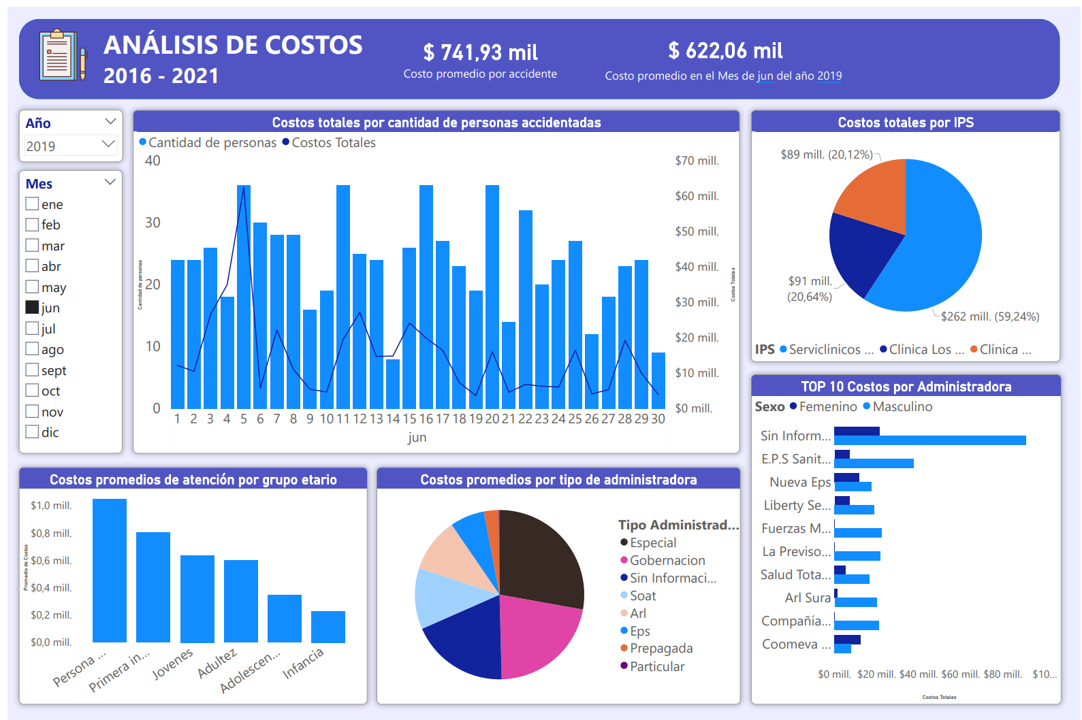

This screenshot's page, from the dashboard's own definition file:
{"tool":"powerbi","page":{"name":"Análisis de Costos","canvas":[3000,2000],"ordinal":1},"visuals":[{"type":"pieChart","title":"Costos totales por IPS","fields":{"Category":["IPS.IPS"],"Y":["Sum(Tabla Costos.Costos)"]},"box":[2080,288,864,704],"z":0},{"type":"slicer","fields":{"Values":["Fechas.Nombre_mes"]},"box":[33.3,455.6,288.9,792.6],"z":1000},{"type":"slicer","fields":{"Values":["Fechas.Año"]},"box":[33.3,286.7,290,146.7],"z":2000},{"type":"shape","box":[33.3,33.3,2910,223.3],"z":3000},{"type":"image","box":[72,48,168,168],"z":4000},{"type":"textbox","box":[264,48,1152,192],"z":5000},{"type":"clusteredBarChart","title":"TOP 10 Costos por Administradora","fields":{"Category":["Administradora.Administradora"],"Y":["Sum(Tabla Costos.Costos)"],"Series":["Tabla Costos.Sexo"]},"box":[2080,1026.7,866.7,923.3],"z":6000},{"type":"lineClusteredColumnComboChart","title":"Costos totales por cantidad de personas accidentadas","fields":{"Category":["Fechas.Nombre_mes","Fechas.Dia"],"Y":["Count(Tabla Costos.Numero)"],"Y2":["Sum(Tabla Costos.Costos)"]},"box":[352,288,1696,960],"z":7000},{"type":"card","fields":{"Values":["_Medidas.Costo promedio por accidente"]},"box":[1066.7,36.7,513.3,203.3],"z":8000},{"type":"card","fields":{"Values":["_Medidas.Costo promedio por accidente"]},"box":[1800,46.7,416.7,130],"z":9000},{"type":"textbox","box":[1666.7,163.3,715,93.3],"z":10000},{"type":"clusteredColumnChart","title":"Costos promedios de atención por grupo etario","fields":{"Category":["Grupo etáreo.Curso de vida"],"Y":["Avg(Tabla Costos.Costos)"]},"box":[33.3,1286.7,973.3,663.3],"z":11000},{"type":"pieChart","title":"Costos promedios por tipo de administradora","fields":{"Category":["Administradora.Tipo Administradora"],"Y":["Avg(Tabla Costos.Costos)"]},"box":[1033.3,1286.7,1016.7,663.3],"z":12000}]}

Visuals, with their boxes in screenshot pixels (x1, y1, x2, y2), scaled from the page's 3000x2000 canvas onto the 1082x720 screenshot:
"Costos totales por IPS" pieChart: bbox(750, 104, 1062, 357)
slicer - Fechas.Nombre_mes: bbox(12, 164, 116, 449)
slicer - Fechas.Año: bbox(12, 103, 117, 156)
shape: bbox(12, 12, 1062, 92)
image: bbox(26, 17, 87, 78)
textbox: bbox(95, 17, 511, 86)
"TOP 10 Costos por Administradora" clusteredBarChart: bbox(750, 370, 1063, 702)
"Costos totales por cantidad de personas accidentadas" lineClusteredColumnComboChart: bbox(127, 104, 739, 449)
card - _Medidas.Costo promedio por accidente: bbox(385, 13, 570, 86)
card - _Medidas.Costo promedio por accidente: bbox(649, 17, 799, 64)
textbox: bbox(601, 59, 859, 92)
"Costos promedios de atención por grupo etario" clusteredColumnChart: bbox(12, 463, 363, 702)
"Costos promedios por tipo de administradora" pieChart: bbox(373, 463, 739, 702)
